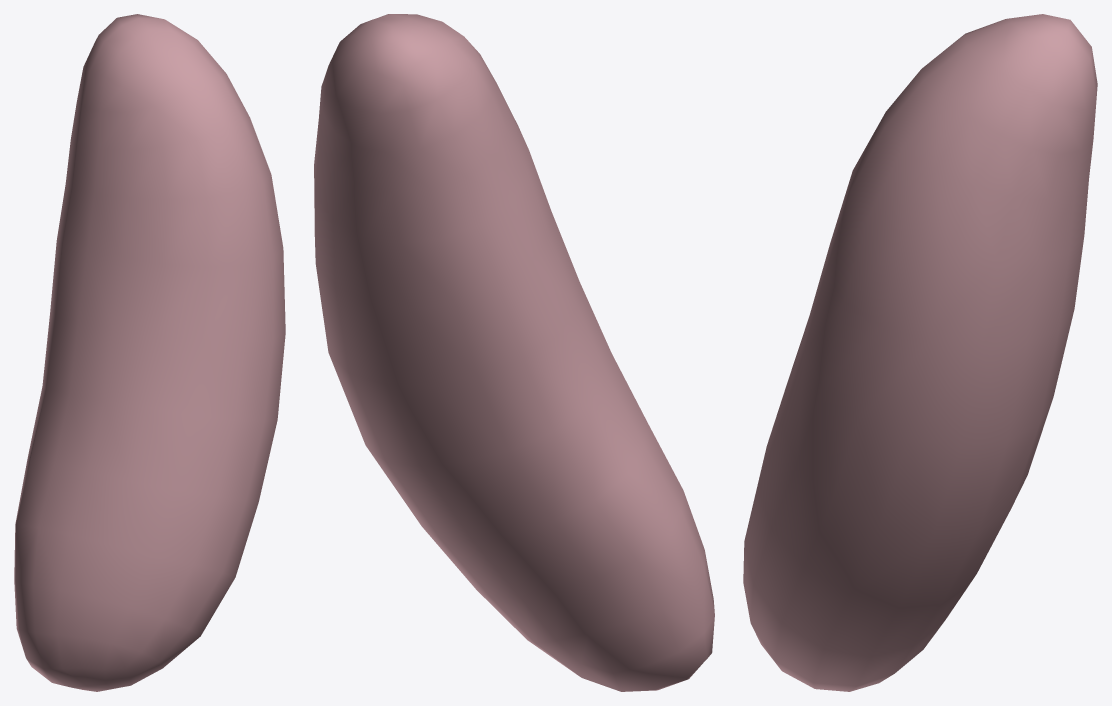
Rendered from 3DPX-020979.glb.
The picture shows the model from 3 angles, left to right: view 1: azimuth 30°, elevation 25°; view 2: azimuth 150°, elevation 25°; view 3: azimuth 270°, elevation 25°; orthographic projection. The views are drawn at different scales.
Visible parts, largest first — view 1: VH_F_left_ovary; view 2: VH_F_left_ovary; view 3: VH_F_left_ovary.
Boxes of the visible parts, x1,y1,x2,y2 form: VH_F_left_ovary: (14,14,285,691); VH_F_left_ovary: (314,14,714,691); VH_F_left_ovary: (743,14,1097,691).
Bounding box in the file's own units: 0.1228 × 0.2395 × 0.1053.
